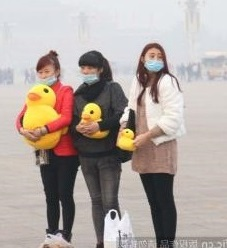person: (119, 42, 189, 248), (15, 48, 80, 248), (72, 49, 135, 248), (194, 61, 204, 81), (23, 68, 30, 85), (180, 62, 186, 81)
